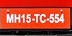1: (21, 14, 26, 24)
4: (59, 13, 66, 23)
5: (25, 13, 32, 24), (49, 14, 55, 23), (54, 14, 60, 23)
C: (40, 13, 47, 24)
H: (14, 14, 21, 24)
M: (6, 14, 14, 24)
T: (33, 13, 40, 24)
